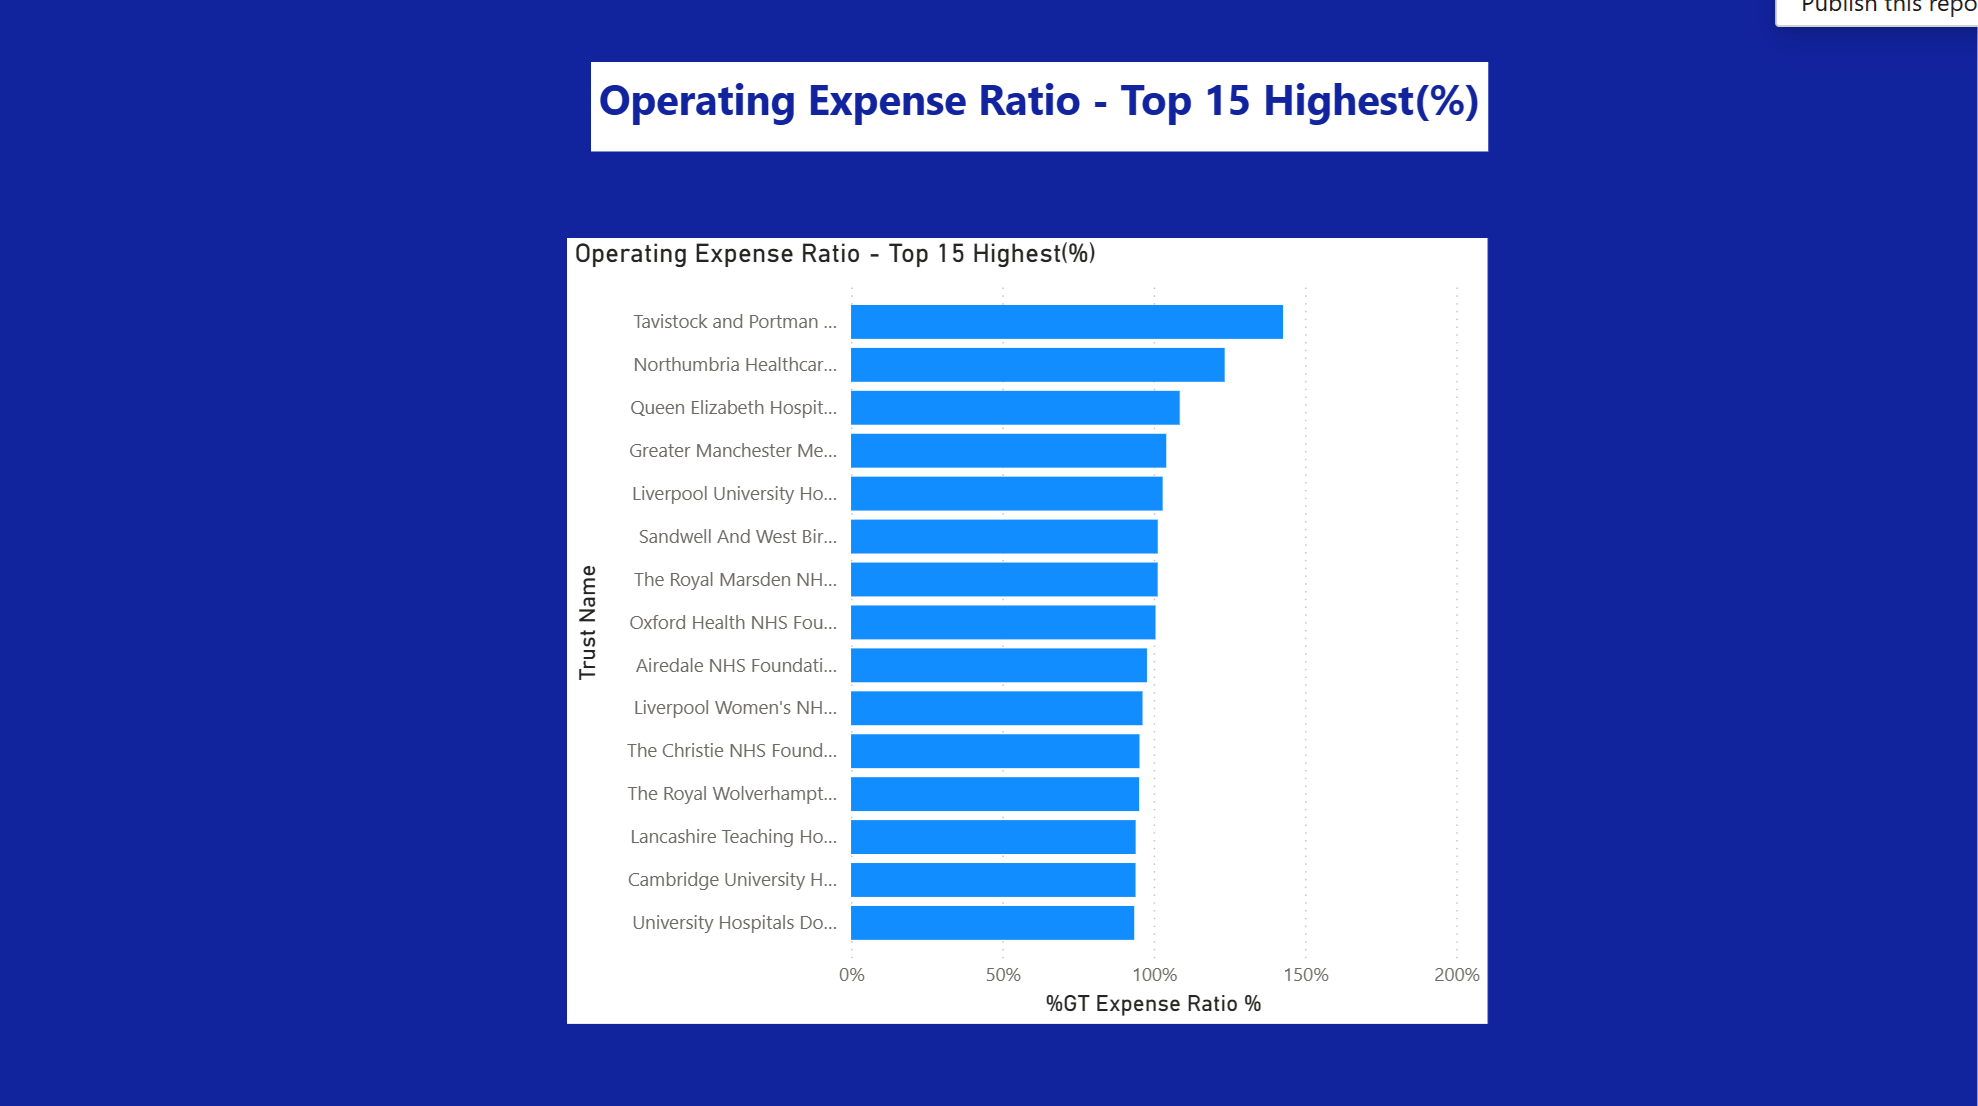

Layout of this report page (visuals, bound fields, positions):
{"tool":"powerbi","page":{"name":"Effciency","canvas":[1280,720],"ordinal":3},"visuals":[{"type":"barChart","title":"Operating Expense Ratio - Top 15 Highest(%)","fields":{"Category":["Summary by Trust.Trust Name"],"Y":["Income Statement Detail.Expense Ratio %"]},"box":[374.3,158.5,591.4,504.8],"z":0},{"type":"textbox","box":[388.9,45.3,576.7,57.3],"z":1000}]}

Visuals, with their boxes on the page's 1280x720 design canvas (x1, y1, x2, y2). These are canvas units, not pixel positions in the 1978x1106 screenshot, which may show the page scaled, cropped or inside an application window:
"Operating Expense Ratio - Top 15 Highest(%)" barChart: (x1=374, y1=158, x2=966, y2=663)
textbox: (x1=389, y1=45, x2=966, y2=103)
